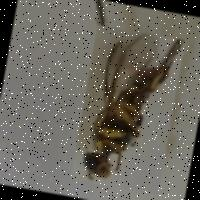Oriental-fruit-fly: (69, 23, 184, 193)
